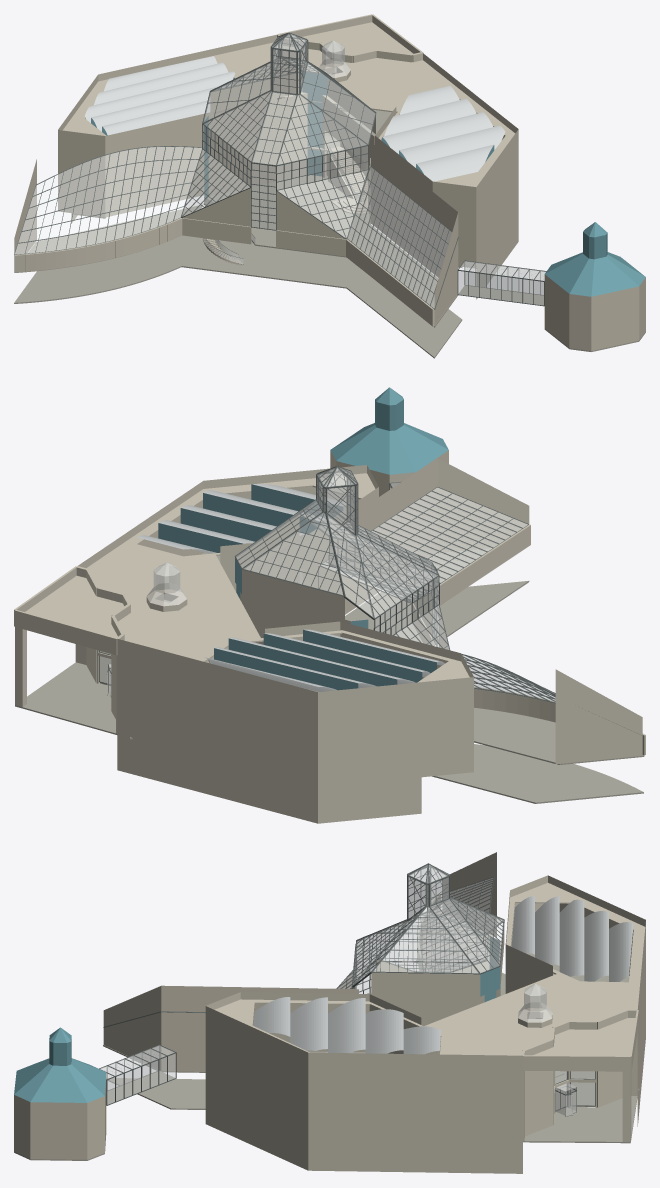
Rendered from MUDAM_R05_ALT_MERDIVEN_v004_preview.glb.
3 renders of one model, top to bottom at view 1: azimuth 30°, elevation 25°; view 2: azimuth 150°, elevation 25°; view 3: azimuth 270°, elevation 25°, orthographic. The views are drawn at different scales.
Parts seen in each view (by area): view 1: P05_ZONE_LM1_GALLERIES_FOYER, P05_MAIN_ROOF_DECK, P05_GALLERY_HALL_WEST1, P05_MAIN_ATRIUM_BASE_3, P05_EAST_HIGH_R02_BEFORE, P04_PAV_WALL_ENVELOPE, P05_FRONT_0, P05_FLOOR_L00_GH, P05_GALLERY_HALL_WEST2, P04_PAV_ROOF_SLOPE, P05_FLOOR_L00_WEST_CAFE, P05_FLOOR_L00_EAST_GARDEN (+20 smaller); view 2: P05_FRONT_9, P05_MAIN_ROOF_DECK, P05_FRONT_10, P05_ZONE_LM1_GALLERIES_FOYER, P05_EAST_HIGH_R02_BEFORE, P05_WEST_END, P05_EAST_END, P05_GALLERY_HALL_WEST3, P04_PAV_ROOF_SLOPE, P07_CANOPY_PAVING_DISPLAY, P05_FLOOR_L00_WEST_CAFE, P07_CANOPY_SLAB_ENVELOPE (+25 smaller); view 3: P05_FRONT_1, P05_MAIN_ROOF_DECK, P05_FRONT_0, P04_PAV_WALL_ENVELOPE, P05_EAST_HIGH_R02_BEFORE, P05_EAST_END, P04_PAV_ROOF_SLOPE, P07_CANOPY_PAVING_DISPLAY, P06_HIGH_EAVE_UPSTAND_5, P07_CANOPY_SLAB_ENVELOPE, P05_WEST_END, P07_ENTRY_RETURN_1 (+15 smaller).
Boxes of the visible parts, left/top/right/bottom form: P05_ZONE_LM1_GALLERIES_FOYER: left=14, top=235, right=462, bottom=358; P05_MAIN_ROOF_DECK: left=62, top=42, right=517, bottom=186; P05_GALLERY_HALL_WEST1: left=105, top=112, right=212, bottom=217; P05_MAIN_ATRIUM_BASE_3: left=208, top=93, right=307, bottom=196; P05_EAST_HIGH_R02_BEFORE: left=370, top=142, right=457, bottom=277; P04_PAV_WALL_ENVELOPE: left=544, top=274, right=645, bottom=350; P05_FRONT_0: left=476, top=129, right=518, bottom=299; P05_FLOOR_L00_GH: left=204, top=176, right=370, bottom=257; P05_GALLERY_HALL_WEST2: left=58, top=130, right=105, bottom=217; P04_PAV_ROOF_SLOPE: left=545, top=252, right=645, bottom=296; P05_FLOOR_L00_WEST_CAFE: left=14, top=204, right=202, bottom=272; P05_FLOOR_L00_EAST_GARDEN: left=348, top=224, right=457, bottom=327; P05_FRONT_9: left=117, top=639, right=317, bottom=823; P05_MAIN_ROOF_DECK: left=86, top=473, right=473, bottom=701; P05_FRONT_10: left=318, top=682, right=421, bottom=823; P05_ZONE_LM1_GALLERIES_FOYER: left=432, top=581, right=643, bottom=803; P05_EAST_HIGH_R02_BEFORE: left=319, top=458, right=437, bottom=614; P05_WEST_END: left=555, top=669, right=642, bottom=764; P05_EAST_END: left=437, top=458, right=529, bottom=552; P05_GALLERY_HALL_WEST3: left=421, top=677, right=473, bottom=777; P04_PAV_ROOF_SLOPE: left=330, top=423, right=448, bottom=474; P07_CANOPY_PAVING_DISPLAY: left=15, top=662, right=117, bottom=734; P05_FLOOR_L00_WEST_CAFE: left=474, top=707, right=644, bottom=764; P07_CANOPY_SLAB_ENVELOPE: left=25, top=575, right=124, bottom=637; P05_FRONT_1: left=308, top=1052, right=522, bottom=1173; P05_MAIN_ROOF_DECK: left=207, top=883, right=645, bottom=1064; P05_FRONT_0: left=205, top=1006, right=308, bottom=1170; P04_PAV_WALL_ENVELOPE: left=14, top=1077, right=106, bottom=1159; P05_EAST_HIGH_R02_BEFORE: left=161, top=985, right=358, bottom=1071; P05_EAST_END: left=103, top=986, right=161, bottom=1070; P04_PAV_ROOF_SLOPE: left=14, top=1058, right=106, bottom=1102; P07_CANOPY_PAVING_DISPLAY: left=523, top=1096, right=637, bottom=1143; P06_HIGH_EAVE_UPSTAND_5: left=371, top=972, right=480, bottom=996; P07_CANOPY_SLAB_ENVELOPE: left=533, top=1018, right=635, bottom=1055; P05_WEST_END: left=442, top=852, right=496, bottom=937; P07_ENTRY_RETURN_1: left=522, top=1039, right=553, bottom=1136.
Bounding box in the file's own units: 80.45 × 35.94 × 93.28.
